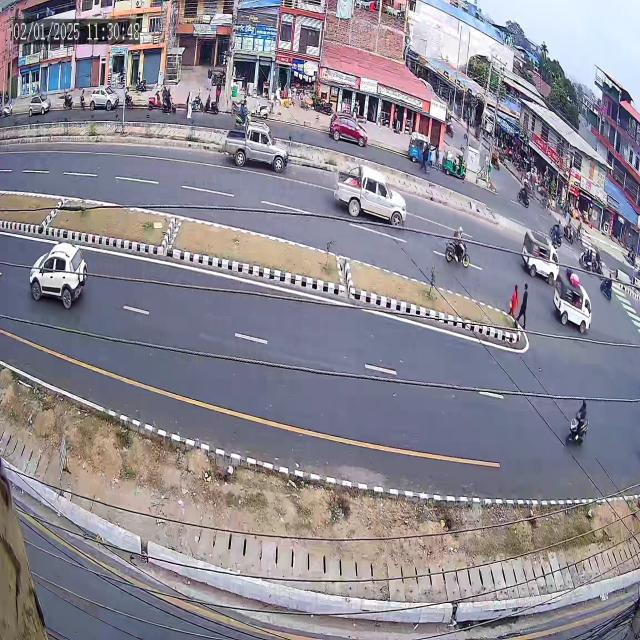car: (19, 226, 107, 325), (329, 157, 409, 246), (318, 100, 372, 154), (86, 80, 127, 118)
motorcycle: (554, 387, 598, 458), (440, 209, 473, 273), (598, 270, 619, 305)
van: (550, 263, 596, 340), (515, 217, 559, 286)
